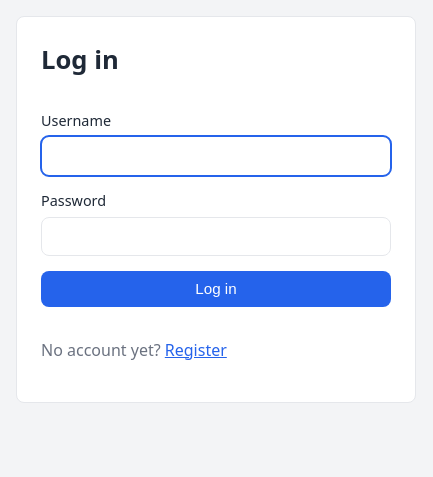
Test: LoginPage › shows the error message and does not navigate when login fails
Type "alice" into the field labelled "Username".
click(216, 156); type("alice")  # box [41, 136, 391, 176]
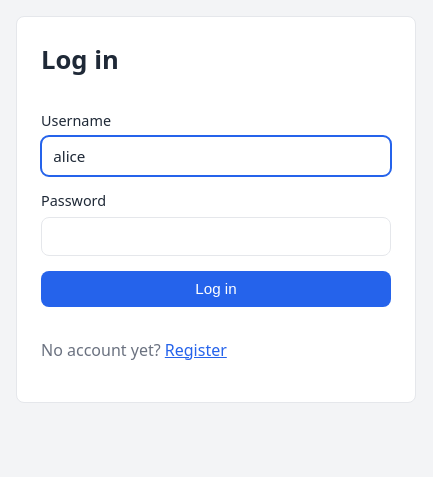
Type "wrongpass" into the password field labelled "Password".
click(216, 236); type("wrongpass")  # box [41, 217, 391, 256]
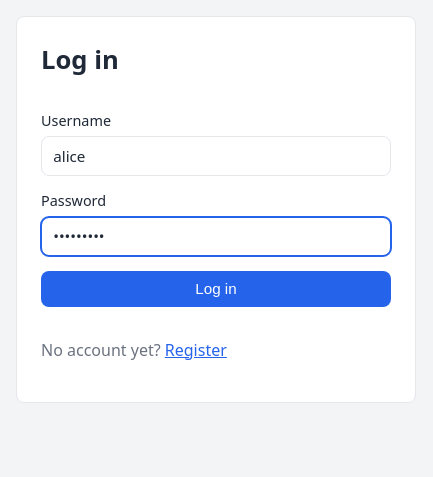
Click the button "Log in".
click(216, 289)  # box [41, 271, 391, 307]
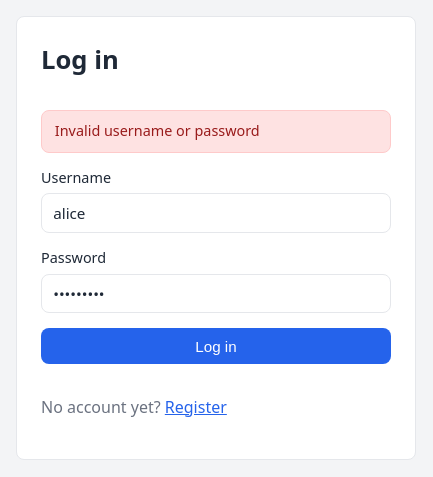
Now the text "Invalid username or password" is shown, box [41, 110, 391, 153]
